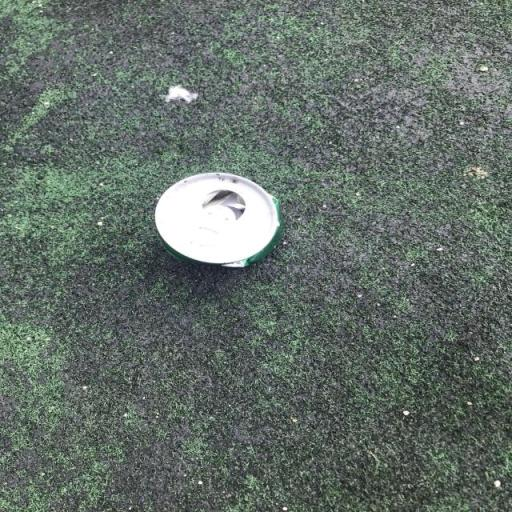metal: (87, 133, 335, 302)
